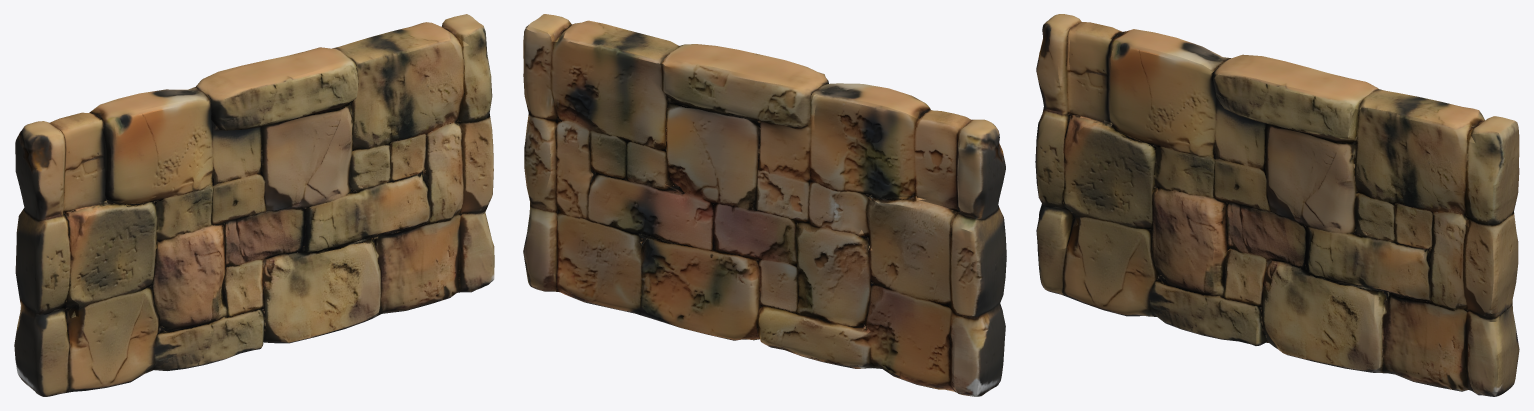
Rendered from Meshy_AI_Stone_Wall_Pattern_0102171420_texture.fbx.
3 renders of one model, left to right at view 1: azimuth 30°, elevation 25°; view 2: azimuth 150°, elevation 25°; view 3: azimuth 330°, elevation 25°, orthographic.
Visible parts, largest first — view 1: Mesh0; view 2: Mesh0; view 3: Mesh0.
Part boxes in pixels (bbox=[...]): Mesh0: bbox=[14, 14, 494, 396]; Mesh0: bbox=[523, 14, 1006, 396]; Mesh0: bbox=[1035, 14, 1519, 396].
Size of the model in its own units: 534 by 300 by 64.92.
Materials: 1 (1 with a texture image).
